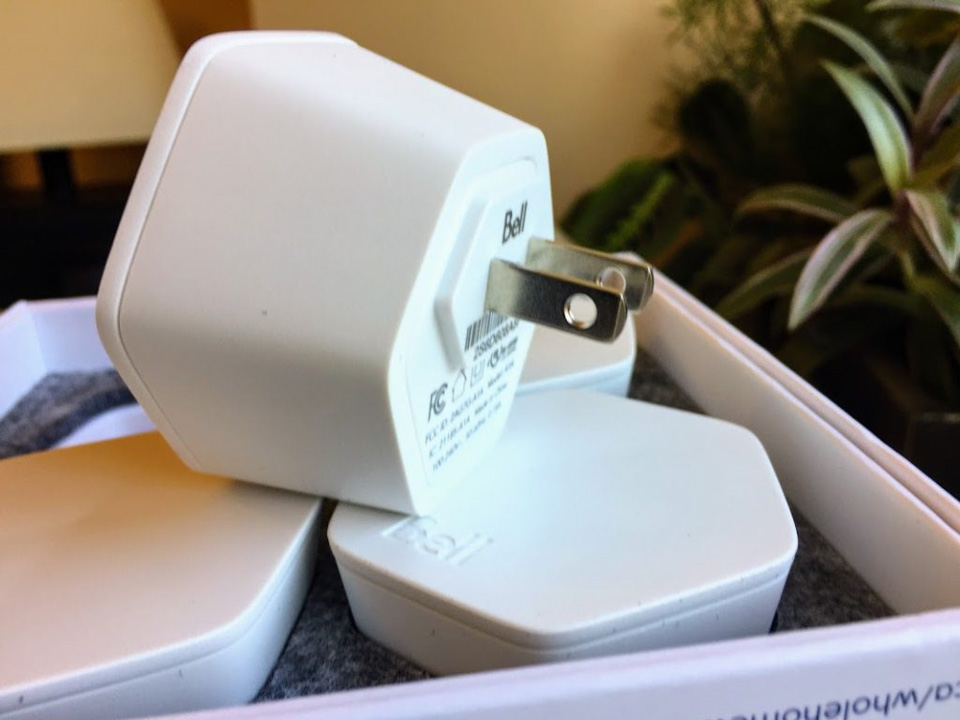pod: (84, 23, 672, 523), (317, 387, 846, 668)
